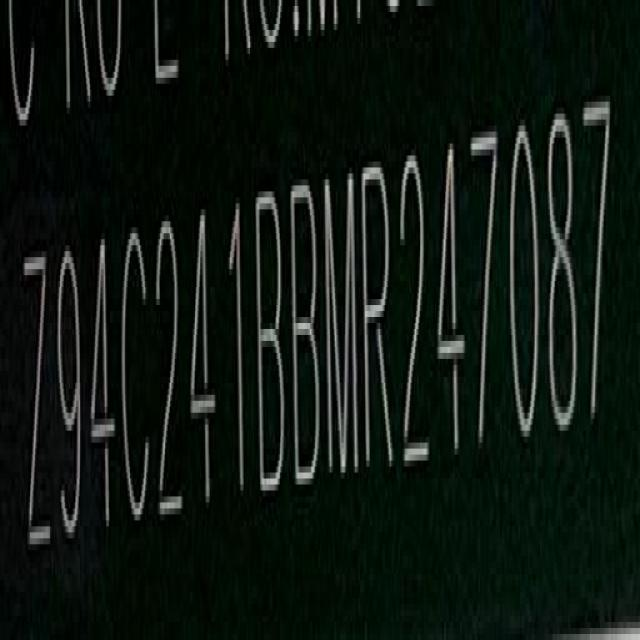0: (508, 117, 542, 454)
1: (228, 193, 249, 513)
2: (400, 149, 432, 475), (158, 207, 187, 533)
4: (435, 135, 466, 472), (190, 201, 221, 524), (89, 229, 117, 545)
7: (469, 122, 501, 460), (588, 92, 618, 434)
8: (545, 104, 576, 440)
9: (53, 246, 81, 560)
B: (256, 183, 287, 505), (294, 174, 322, 499)
C: (122, 221, 156, 541)
M: (323, 162, 358, 490)
R: (365, 155, 397, 484)
Z: (23, 244, 51, 574)
